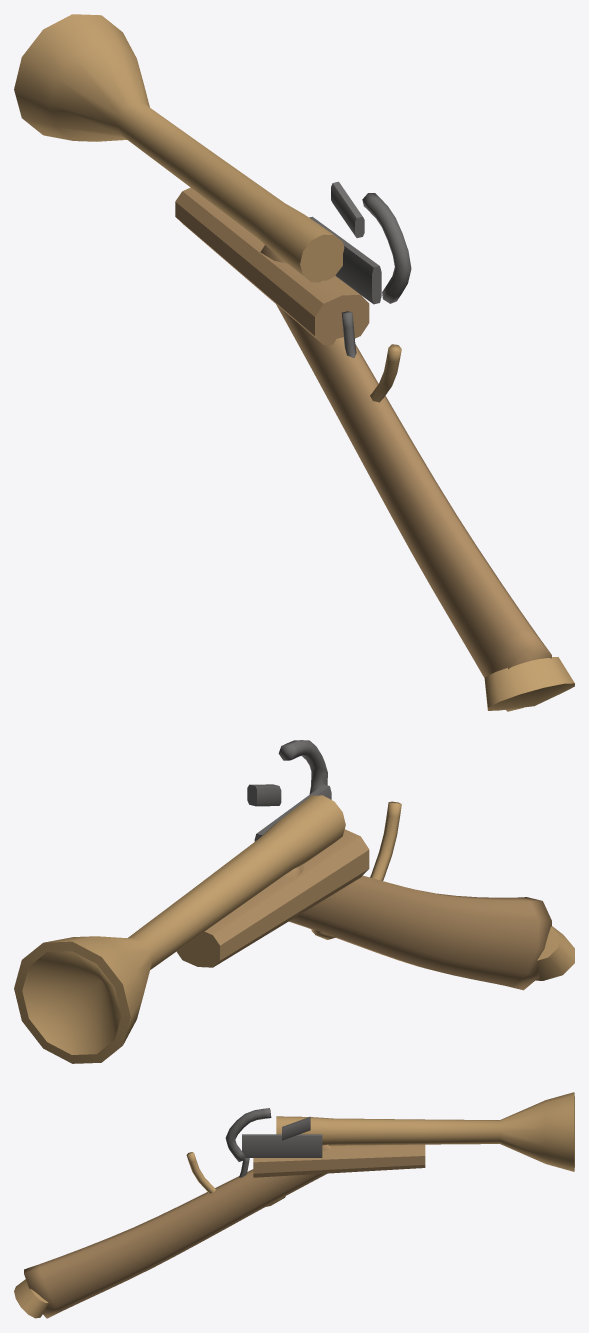
File: dragon-pistol.glb
3 views of the same model, one above another, from view 1: azimuth 30°, elevation 25°; view 2: azimuth 150°, elevation 25°; view 3: azimuth 270°, elevation 25° (orthographic). The views are drawn at different scales.
Parts seen in each view (by area): view 1: dragon-pistol; view 2: dragon-pistol; view 3: dragon-pistol.
Boxes of the visible parts, x1,y1,x2,y2 form: dragon-pistol: [14, 14, 574, 711]; dragon-pistol: [14, 740, 574, 1063]; dragon-pistol: [14, 1092, 574, 1318].
Size of the model in its own units: 0.14 by 0.4251 by 0.9786.
